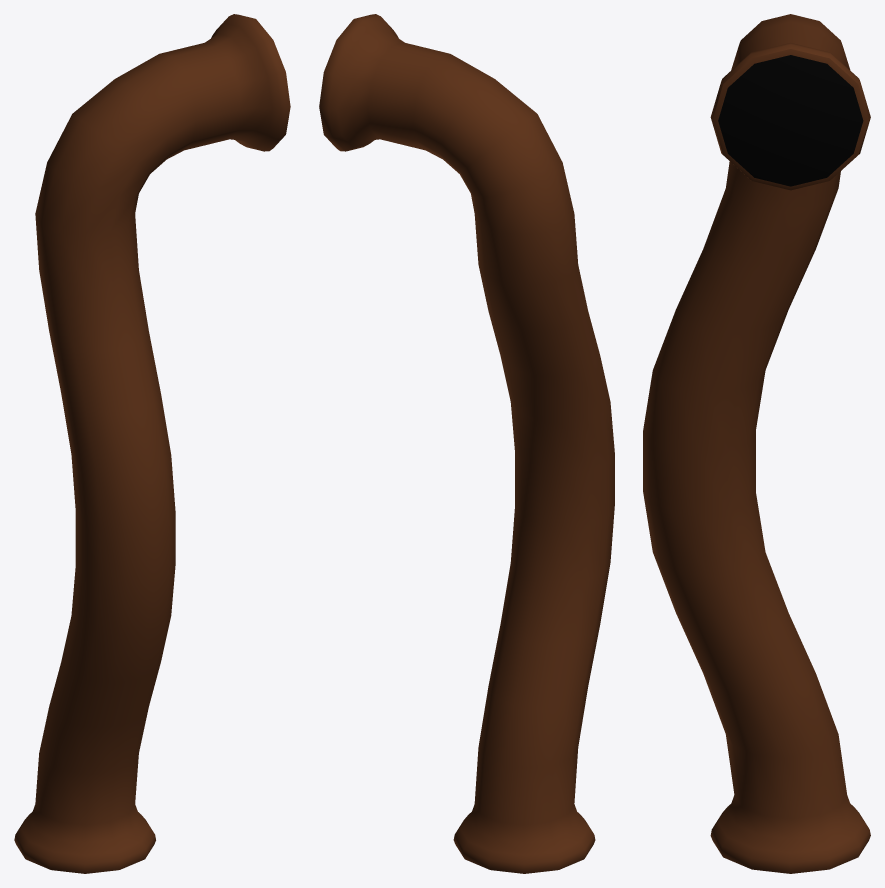
Rendered from Pipe_Curve_1x1_4m_Bent_R.fbx.
3 views of the same model, side by side, from view 1: azimuth 30°, elevation 25°; view 2: azimuth 150°, elevation 25°; view 3: azimuth 270°, elevation 25° (orthographic). The views are drawn at different scales.
Parts seen in each view (by area): view 1: Pipe_Curve_1x1_4m_Bent_R; view 2: Pipe_Curve_1x1_4m_Bent_R; view 3: Pipe_Curve_1x1_4m_Bent_R.
Part boxes in pixels (x1,y1,x2,y2): Pipe_Curve_1x1_4m_Bent_R: [14, 14, 290, 873]; Pipe_Curve_1x1_4m_Bent_R: [319, 14, 614, 873]; Pipe_Curve_1x1_4m_Bent_R: [643, 14, 870, 873].
Size of the model in its own units: 136 by 436 by 101.
